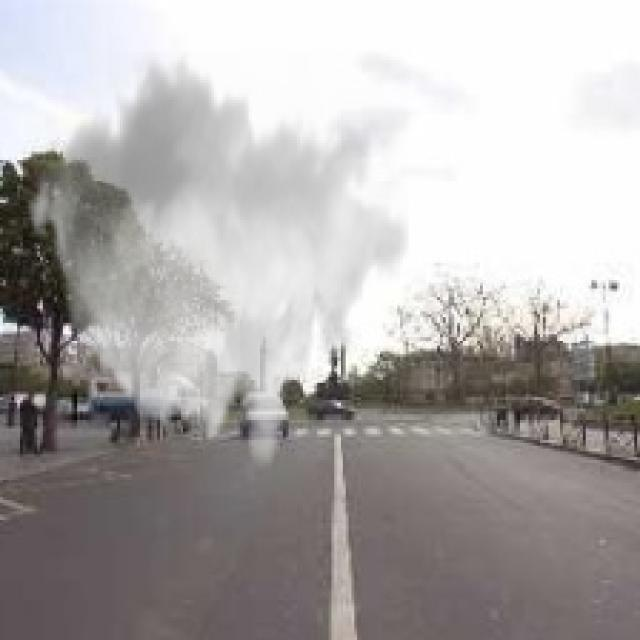Smoke: (22, 52, 408, 474)
